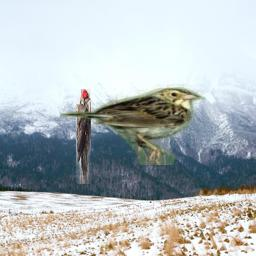Sparrow: (60, 84, 206, 165)
Woodpecker: (76, 89, 91, 184)
